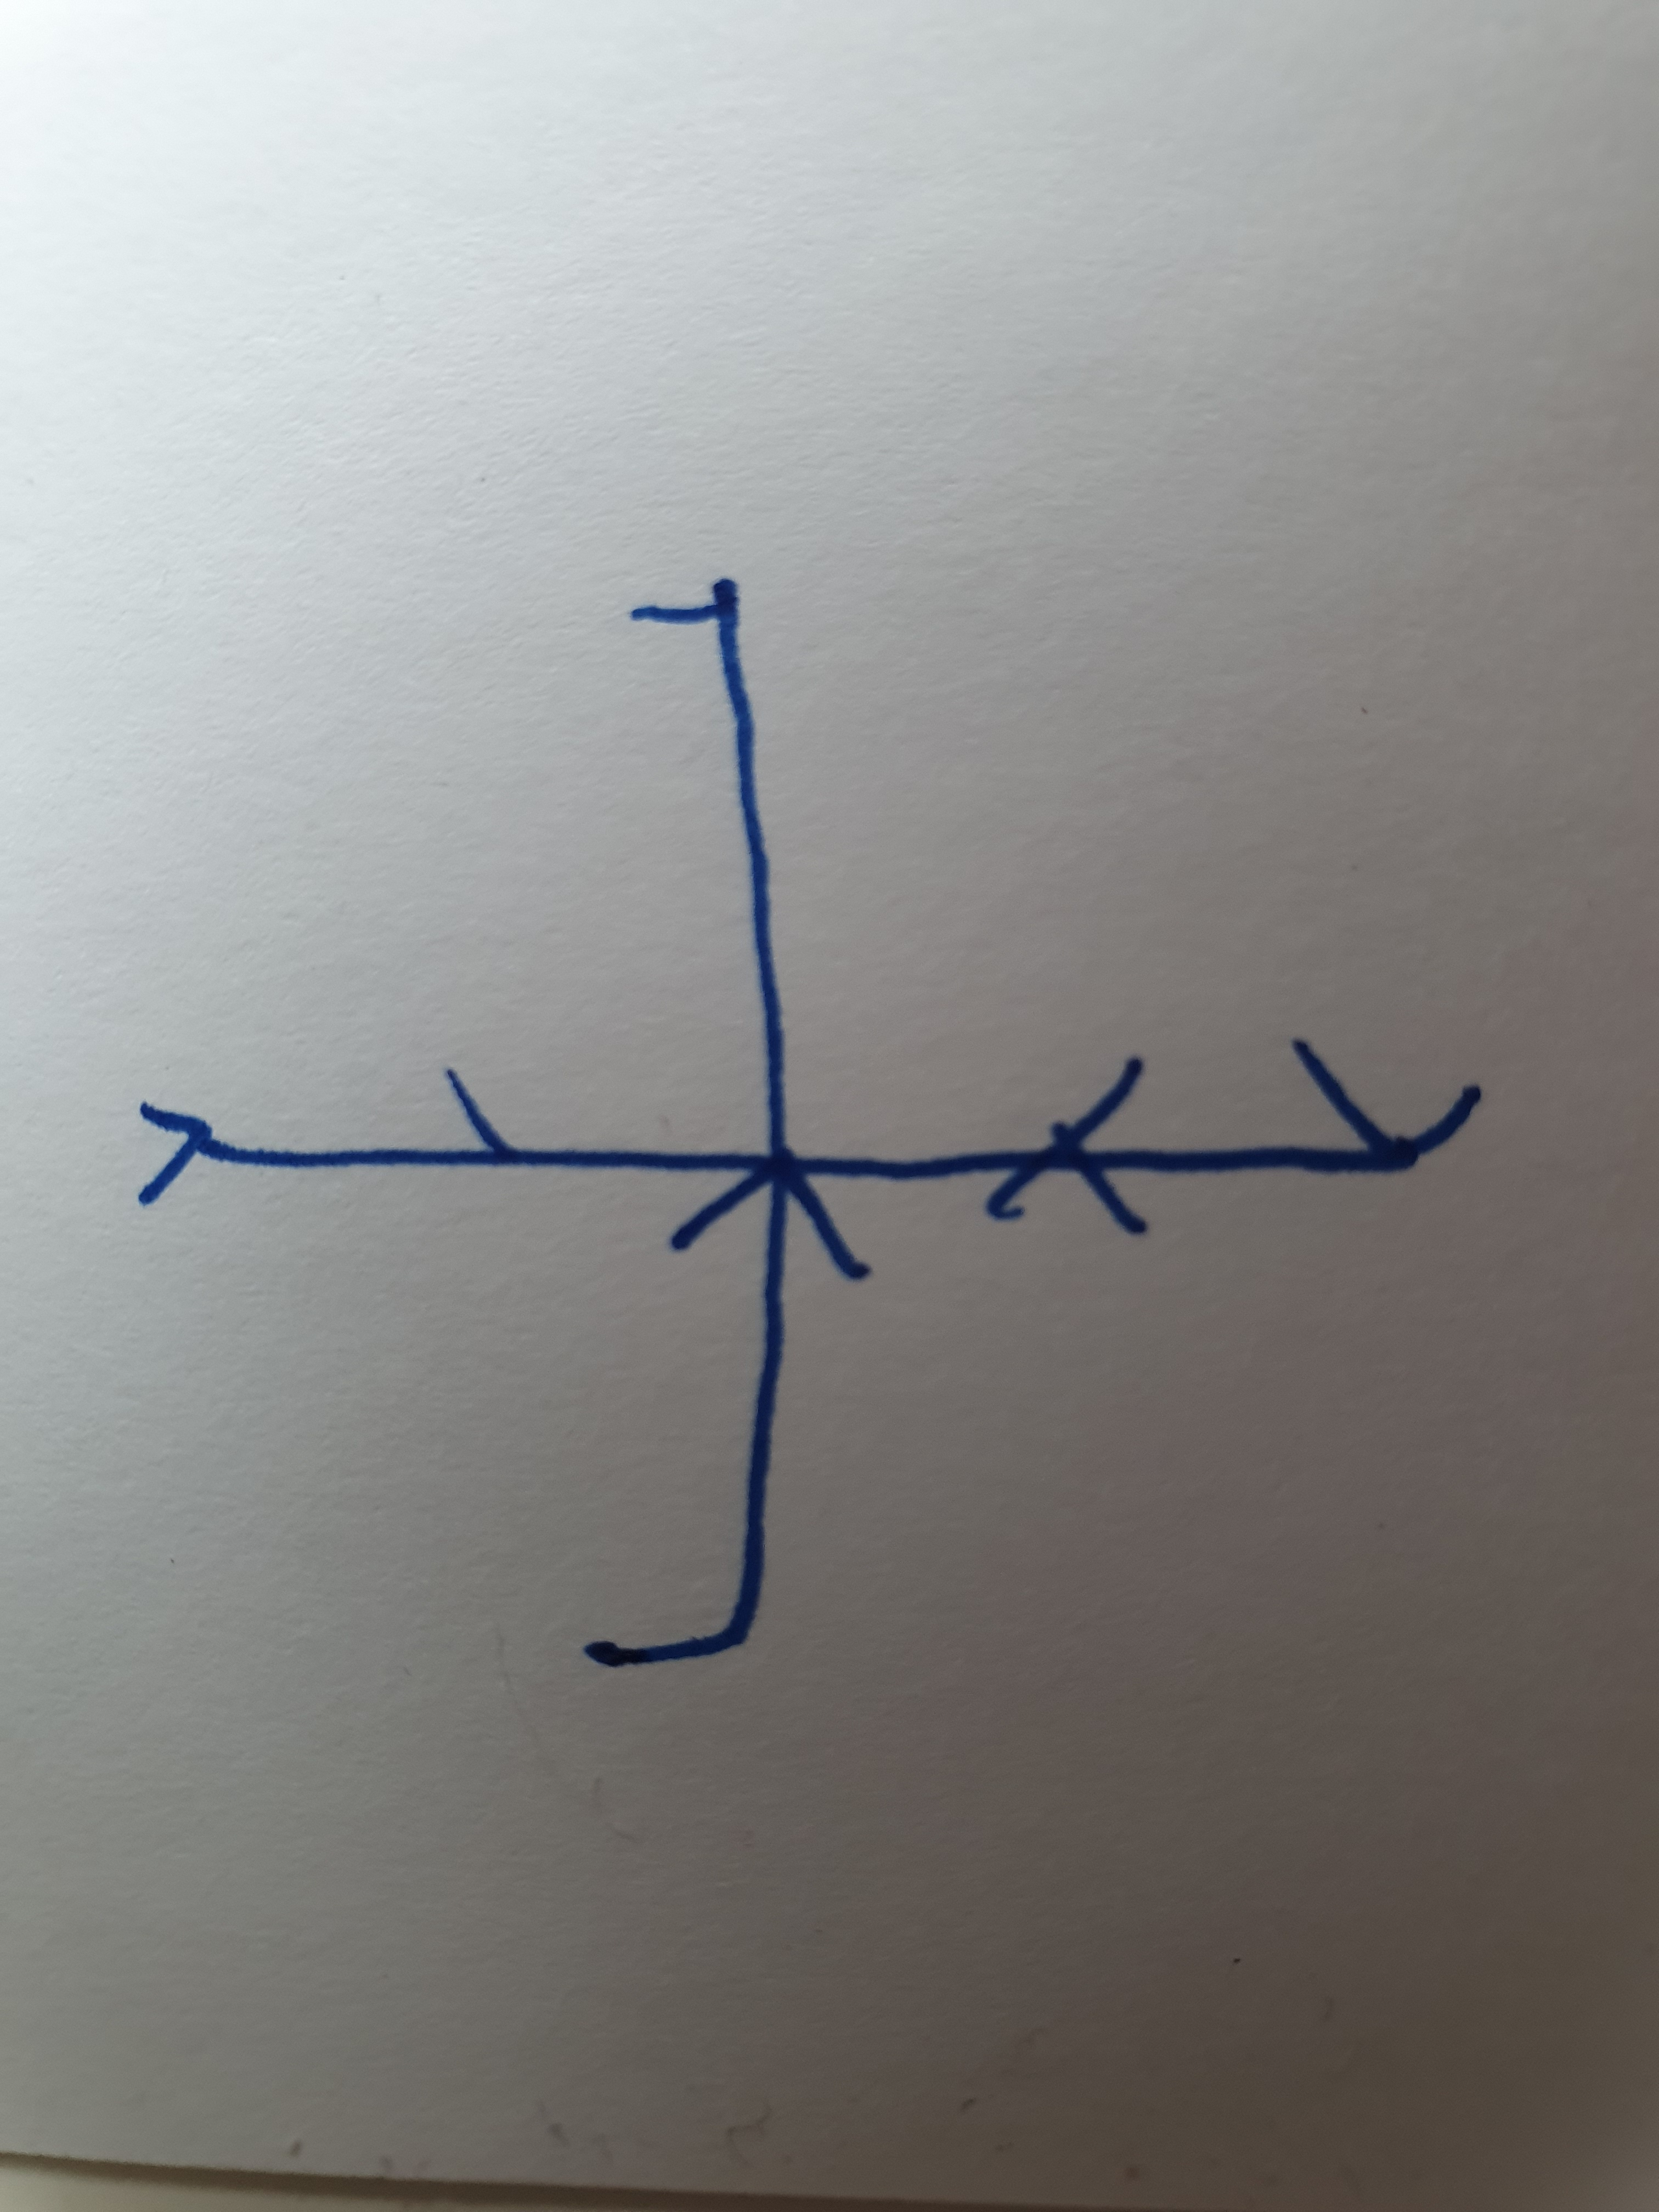Bar: (129, 1035, 1488, 1270)
Barcode: (132, 570, 1488, 1672)
End: (627, 573, 793, 1151)
Start: (579, 1254, 786, 1667)
